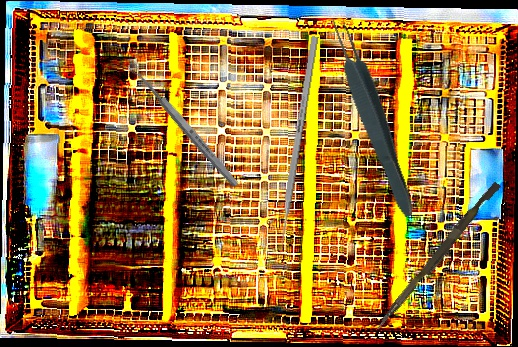Pusher: (375, 178, 501, 335), (275, 35, 319, 261)
Surgical Spoon: (126, 60, 241, 189)
Tissue Forceps: (323, 11, 423, 221)
